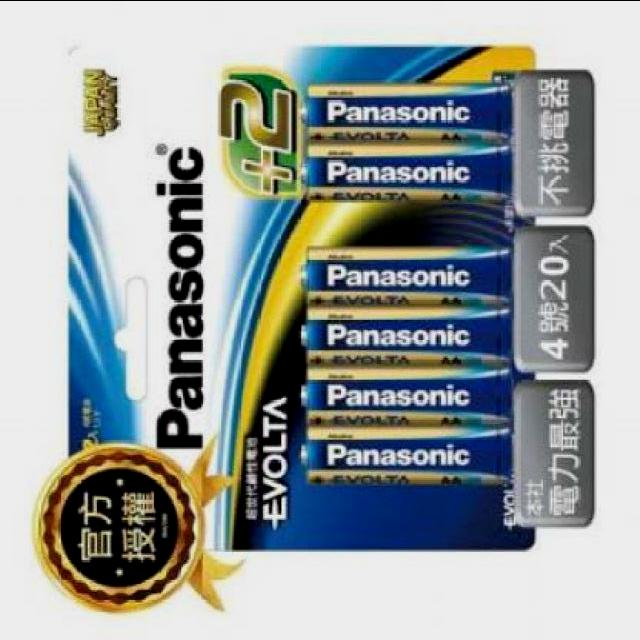AA: (298, 424, 520, 484), (298, 140, 520, 200), (297, 363, 517, 422), (298, 302, 514, 362), (297, 244, 517, 302), (298, 82, 517, 138)
